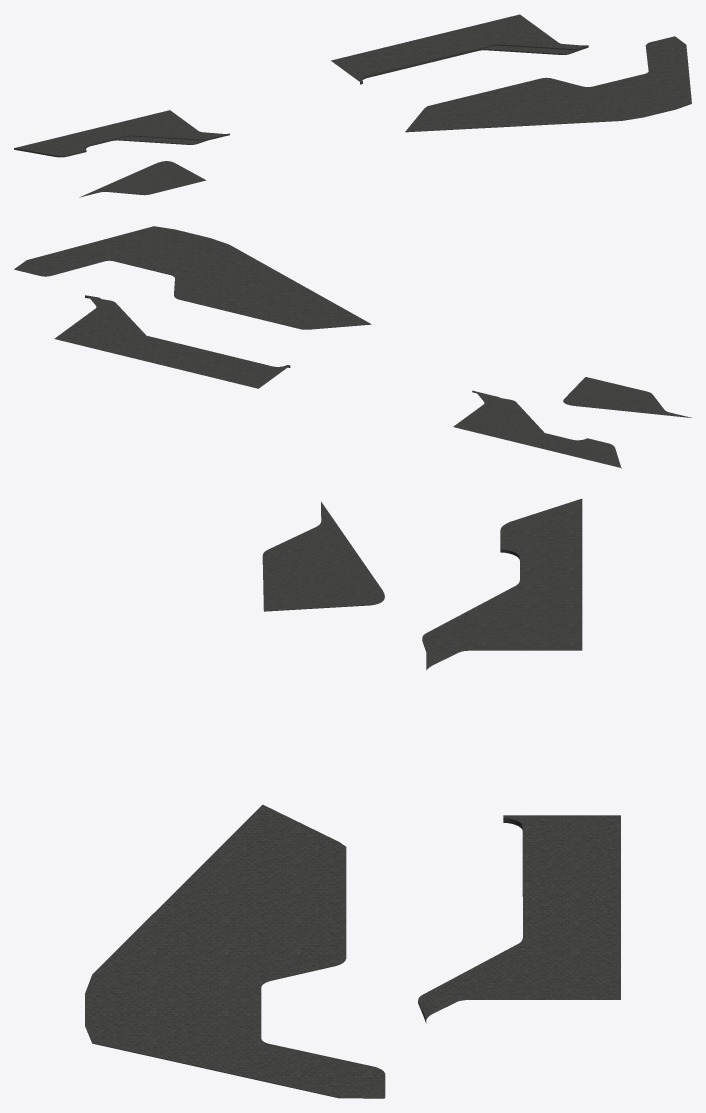
File: EC_Floor Steps.FBX
3 renders of one model, top to bottom at view 1: azimuth 30°, elevation 25°; view 2: azimuth 150°, elevation 25°; view 3: azimuth 270°, elevation 25°, orthographic. The views are drawn at different scales.
Visible parts, largest first — view 1: EC_Floor Steps; view 2: EC_Floor Steps; view 3: EC_Floor Steps.
Part boxes in pixels (left/top/right/bottom): EC_Floor Steps: left=14, top=14, right=691, bottom=197; EC_Floor Steps: left=14, top=226, right=691, bottom=468; EC_Floor Steps: left=85, top=498, right=620, bottom=1098.
Size of the model in its own units: 53007 by 207 by 20119.
